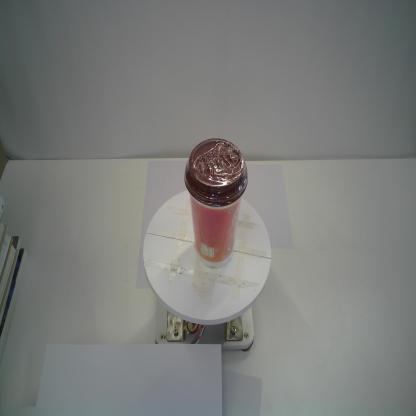Instant Drink: (183, 136, 250, 270)
